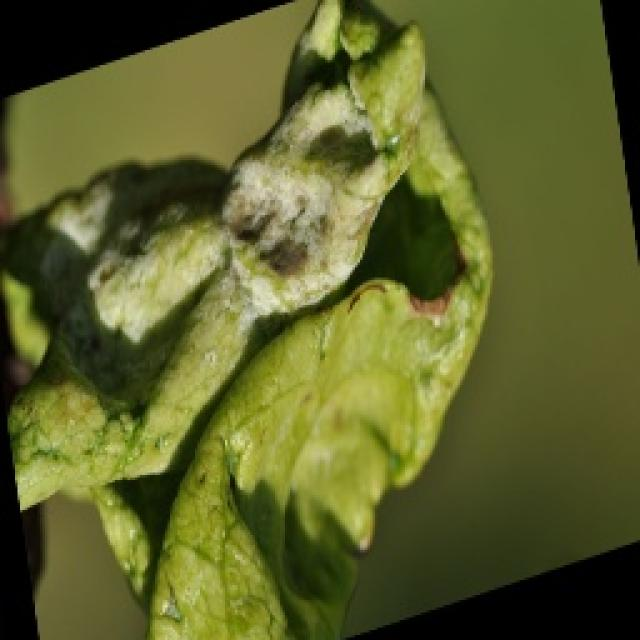peach_leaf_curl: (0, 0, 495, 638)
